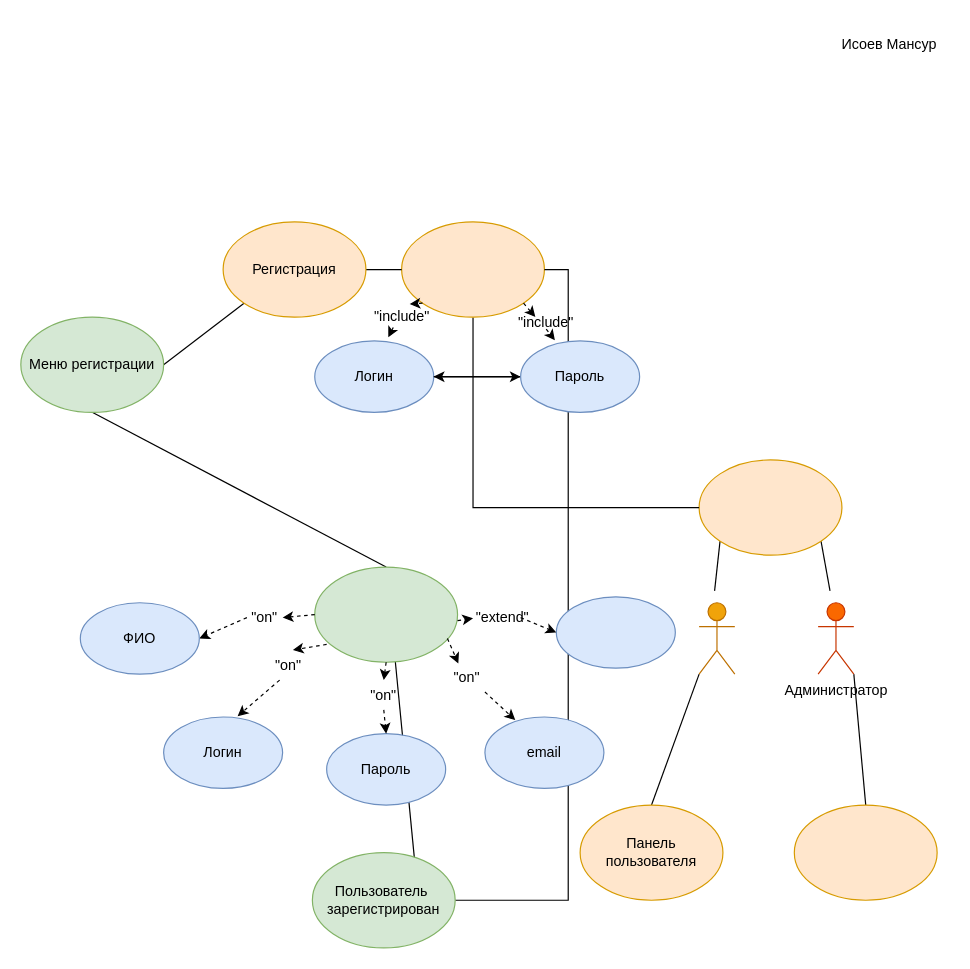
This 970x969 diagram has some shape labels left out. The shapes that lost their labels are listed below. From the top down, each one's box as (x1, y1, x2, y2) in pixels, then its label:
(400, 221, 544, 317): Авторизация
(698, 459, 842, 555): Вход в систему
(314, 566, 458, 662): Ввод данных для пользователя
(555, 596, 675, 668): Телефон
(698, 602, 735, 674): Пользователь
(793, 804, 937, 900): Панель администратора
